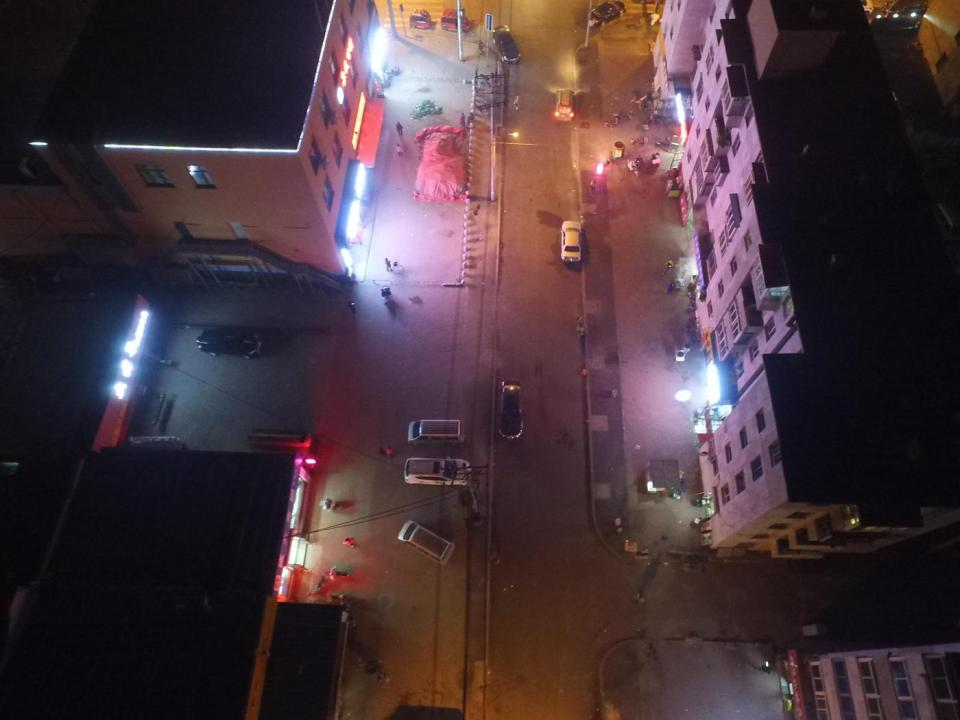car: (195, 329, 262, 359), (498, 381, 522, 438), (493, 24, 521, 63), (560, 221, 584, 261), (587, 1, 625, 26)
van: (398, 520, 454, 565), (404, 458, 472, 487), (408, 419, 464, 446), (554, 89, 575, 121)
